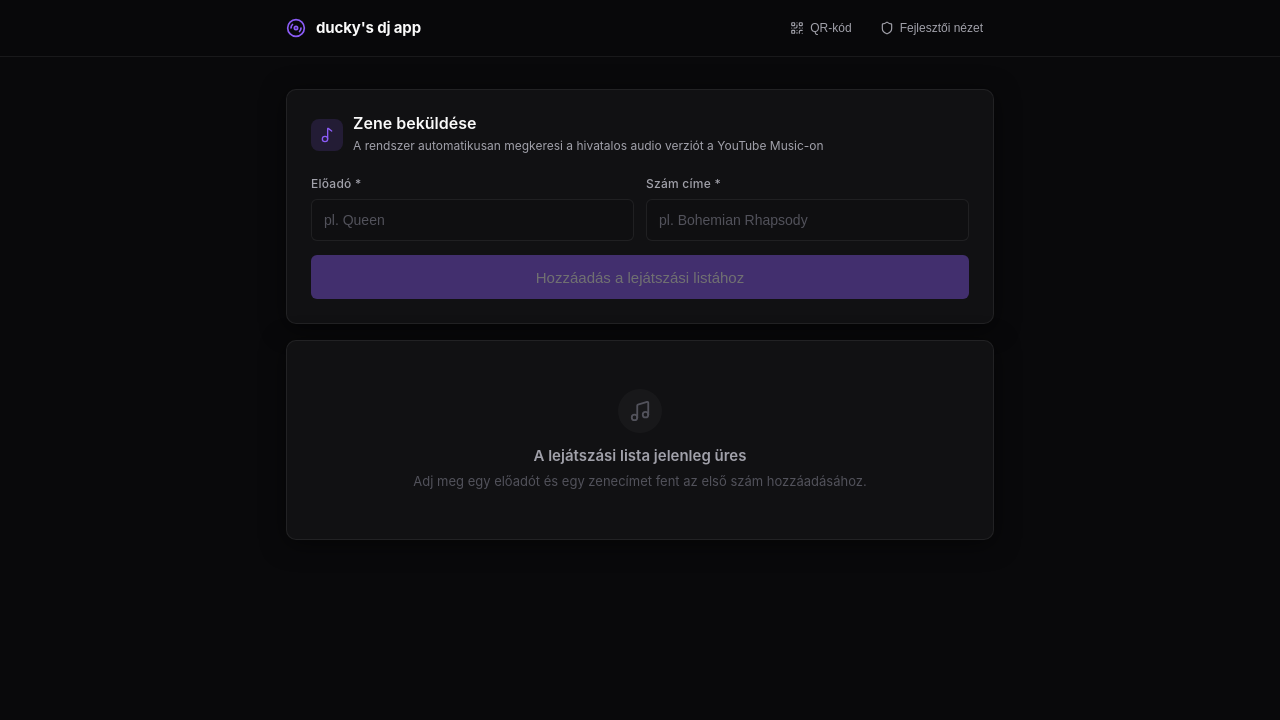
Test: Playlister Web Application (Hungarian, No Voting, Standard Guest Default) › submits a new song using artist and song title in Hungarian
Type "Omega" into the field labelled "Előadó *" at (472, 220), box x1=311 y1=199 x2=634 y2=241
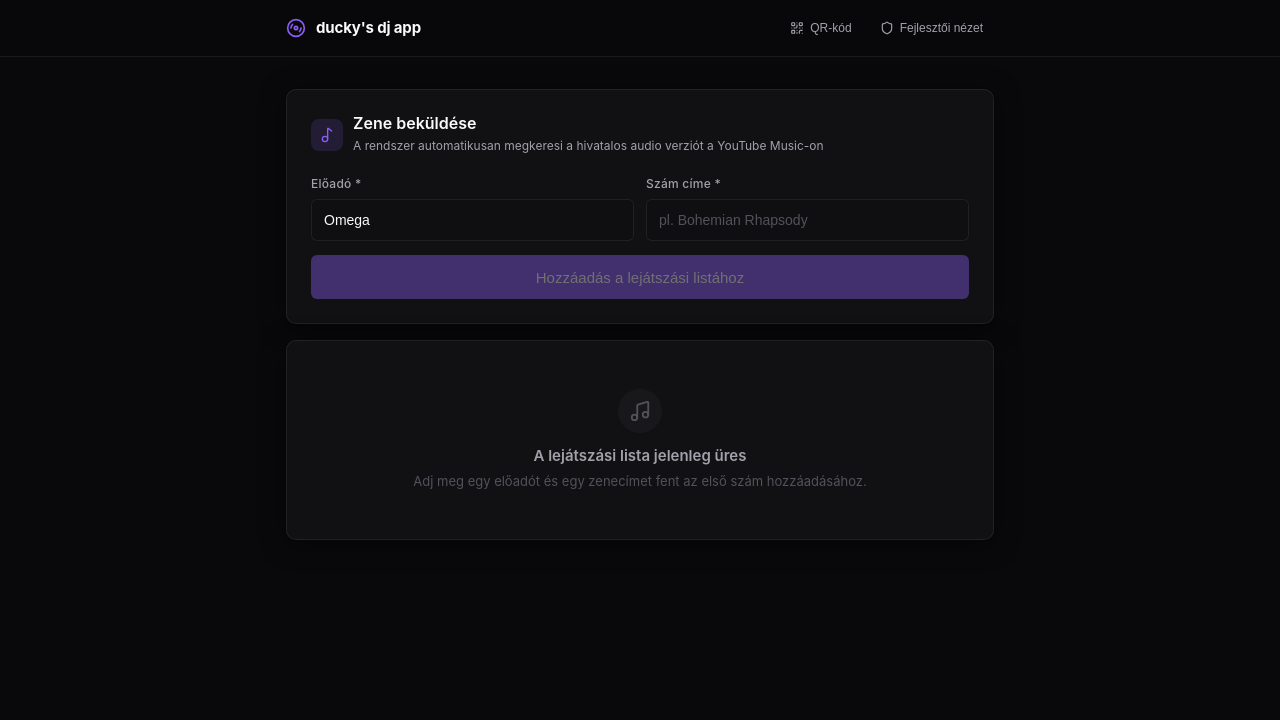
Type "Gyöngyhajú lány" into the field labelled "Szám címe *" at (808, 220), box x1=646 y1=199 x2=969 y2=241
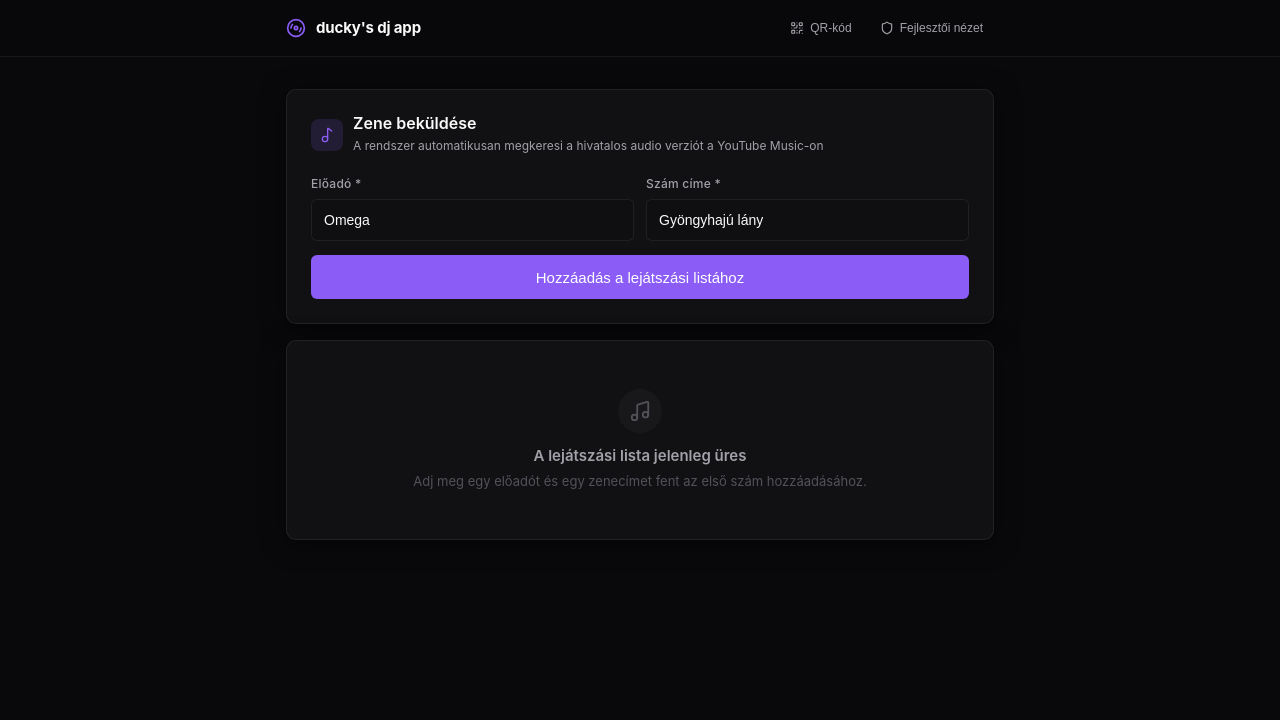
Click the button "Hozzáadás a lejátszási listához" at (640, 277), box x1=311 y1=255 x2=969 y2=299
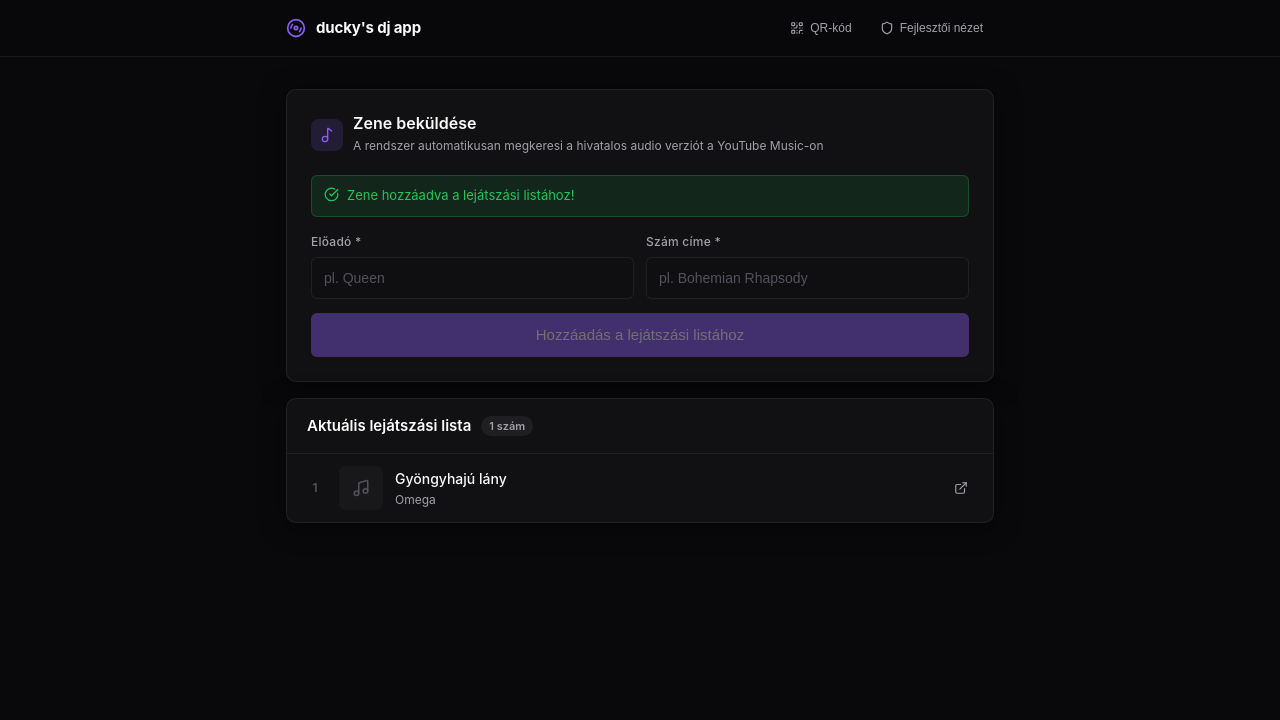
Result: the text "Gyöngyhajú lány" is shown at x1=395 y1=470 x2=507 y2=487
Result: the text "Omega" is shown at x1=395 y1=492 x2=436 y2=507
